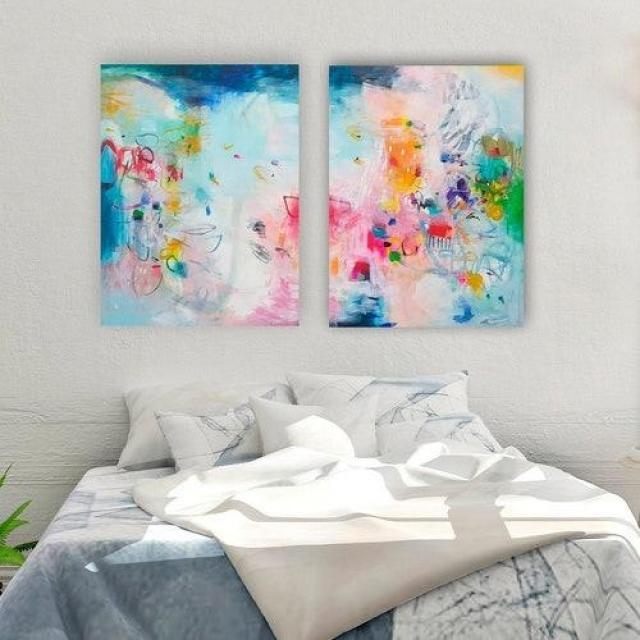painting: (99, 64, 297, 324), (328, 64, 521, 325)
